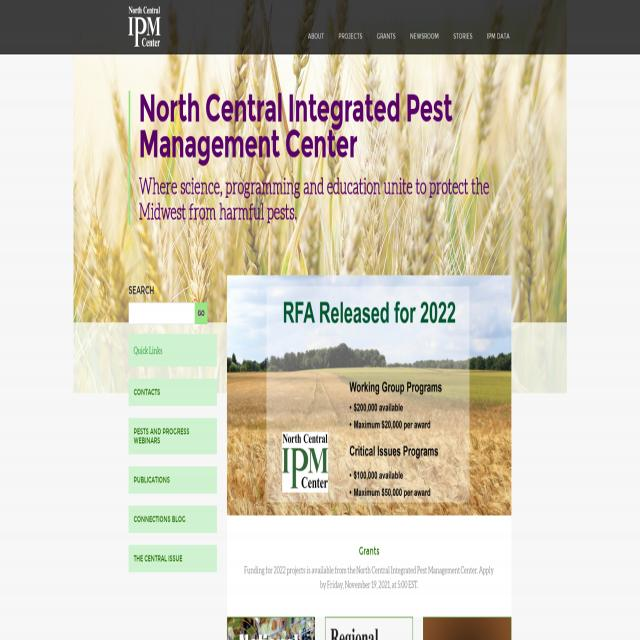button: (403, 16, 446, 54), (332, 16, 369, 54), (480, 16, 516, 54), (370, 16, 402, 54), (447, 16, 479, 54), (301, 16, 331, 54), (195, 302, 208, 324)
field: (129, 302, 195, 324)
